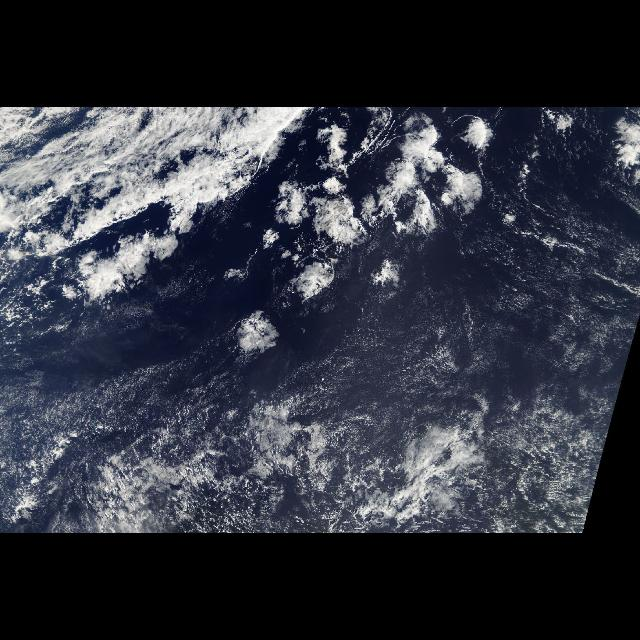Fish: (0, 108, 304, 302)
Flower: (229, 108, 517, 360)
Sugar: (2, 208, 636, 534)
